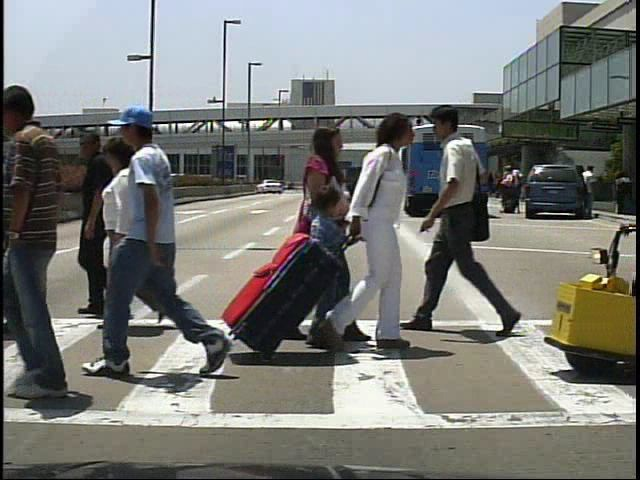person: (113, 105, 221, 388), (407, 100, 530, 347), (332, 116, 427, 367), (290, 120, 361, 358), (92, 138, 157, 333), (71, 128, 132, 323), (295, 181, 346, 319), (582, 164, 602, 218), (498, 166, 516, 219), (505, 165, 524, 215), (9, 122, 11, 341)
